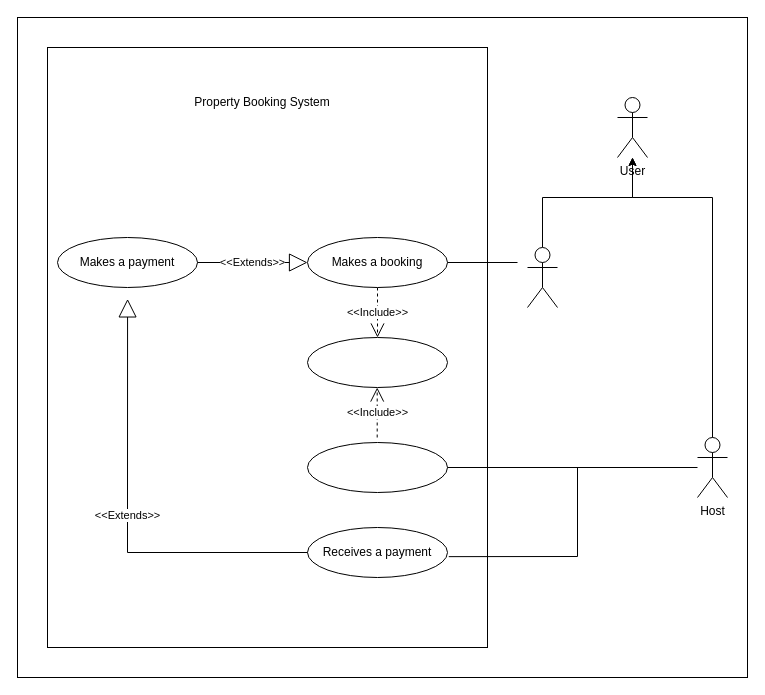
Image size: 765x695. Some labels were removed from this diagram. Here are the shapes that lost their labels. From the top down, the centre of each, then its label:
At (x=542, y=277): "Guest".
At (x=377, y=362): "Register new user".
At (x=377, y=467): "Lists a property".
